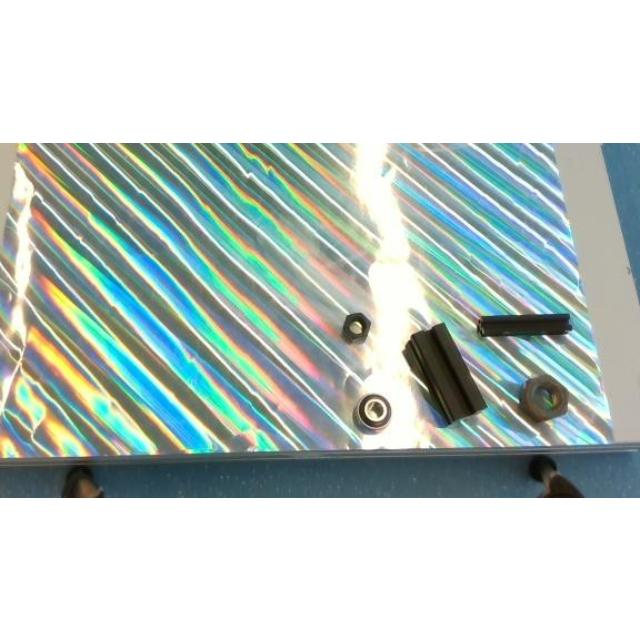Bearing2: (354, 393, 391, 432)
F20_20_B: (476, 312, 572, 336)
M20: (341, 312, 371, 343)
M30: (518, 373, 568, 421)
S40_40_B: (404, 322, 488, 428)
